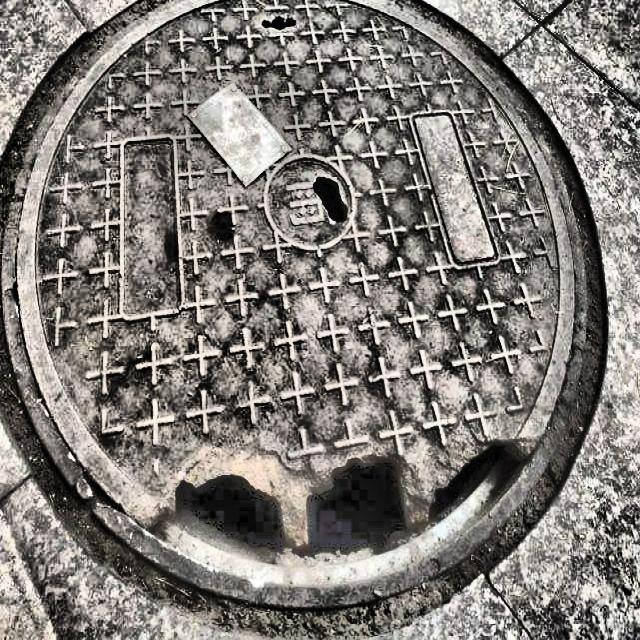Open Manhole: (46, 0, 528, 567)
